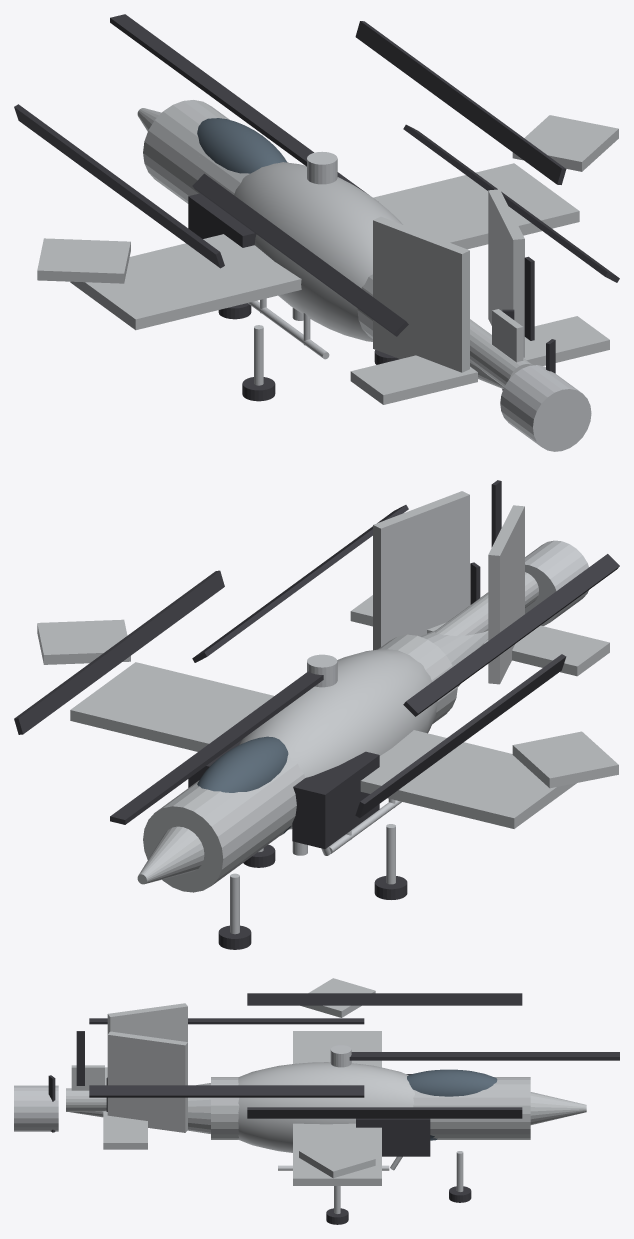
Rendered from ws-aircraft.fbx.
3 views of the same model, one above another, from view 1: azimuth 30°, elevation 25°; view 2: azimuth 150°, elevation 25°; view 3: azimuth 270°, elevation 25° (orthographic). The views are drawn at different scales.
Visible parts, largest first — view 1: heli-body, jet-fin-p, jet-wing-p, jet-wing-s, jet-fuselage, jet-nozzle, rotor_main-blade-4, rotor_main-blade-2, jet-fin-s, rotor_main-blade-1, jet-wingfold-p, jet-stab-p (+13 smaller); view 2: heli-body, jet-fin-s, jet-fuselage, jet-wing-p, jet-wing-s, jet-intake-p, rotor_main-blade-4, rotor_main-blade-2, jet-fin-p, rotor_main-blade-1, jet-wingfold-p, rotor_main-blade-5 (+13 smaller); view 3: heli-body, jet-fin-s, jet-fuselage, jet-wing-s, rotor_main-blade-3, rotor_main-blade-5, rotor_main-blade-2, rotor_main-blade-1, jet-wing-p, jet-fin-p, jet-intake-s, jet-nozzle (+11 smaller).
Boxes of the visible parts, x1,y1,x2,y2 form: heli-body: (234, 162, 402, 341); jet-fin-p: (373, 216, 469, 372); jet-wing-p: (70, 234, 301, 330); jet-wing-s: (373, 163, 579, 249); jet-fuselage: (143, 100, 372, 338); jet-nozzle: (500, 365, 591, 451); rotor_main-blade-4: (192, 173, 408, 336); rotor_main-blade-2: (355, 21, 566, 184); jet-fin-s: (488, 189, 524, 357); rotor_main-blade-1: (110, 14, 313, 166); jet-wingfold-p: (37, 238, 130, 283); jet-stab-p: (350, 355, 477, 404); heli-body: (239, 649, 437, 829); jet-fin-s: (373, 491, 469, 650); jet-fuselage: (143, 634, 457, 892); jet-wing-p: (360, 730, 576, 828); jet-wing-s: (70, 662, 273, 751); jet-intake-p: (292, 751, 379, 848); rotor_main-blade-4: (403, 554, 619, 716); rotor_main-blade-2: (14, 570, 224, 734); jet-fin-p: (488, 505, 524, 684); rotor_main-blade-1: (110, 671, 323, 824); jet-wingfold-p: (512, 731, 618, 788); rotor_main-blade-5: (355, 654, 566, 817); heli-body: (237, 1062, 414, 1152); jet-fin-s: (107, 1031, 187, 1132); jet-fuselage: (211, 1077, 530, 1139); jet-wing-s: (293, 1123, 381, 1185); rotor_main-blade-3: (89, 1085, 364, 1097); rotor_main-blade-5: (247, 993, 522, 1005); rotor_main-blade-2: (247, 1107, 522, 1118); rotor_main-blade-1: (349, 1052, 619, 1060); jet-wing-p: (293, 1031, 381, 1067); jet-fin-p: (107, 1003, 187, 1041); jet-intake-s: (356, 1118, 430, 1156); jet-nozzle: (14, 1085, 58, 1131).
Size of what is drawn, in the model's own units: 12.31 by 5.16 by 16.3.
